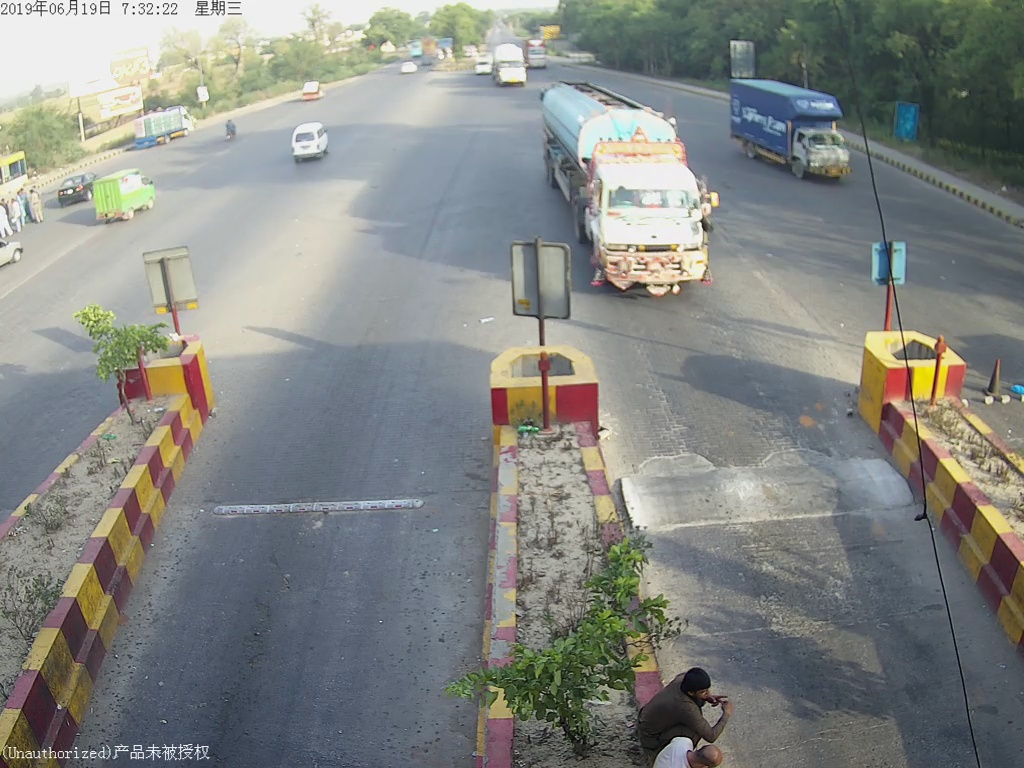Cat-5: (543, 88, 719, 286)
